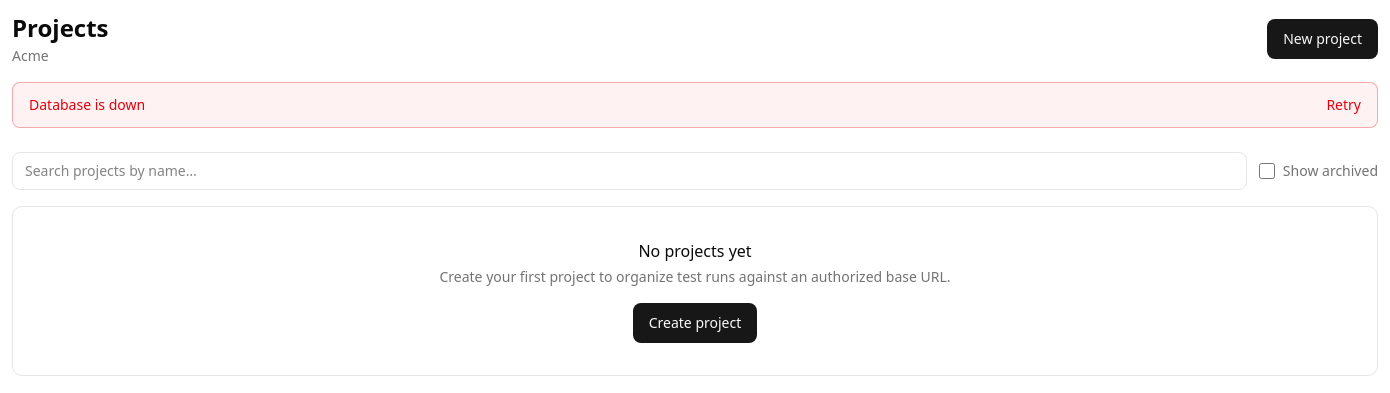
Test: ProjectsManager › shows an error with retry when loading fails
Expected: the message reads "Database is down", [29,95,145,114]
Click the button "Retry". click: (1344, 105)
box: [1326,95,1361,115]
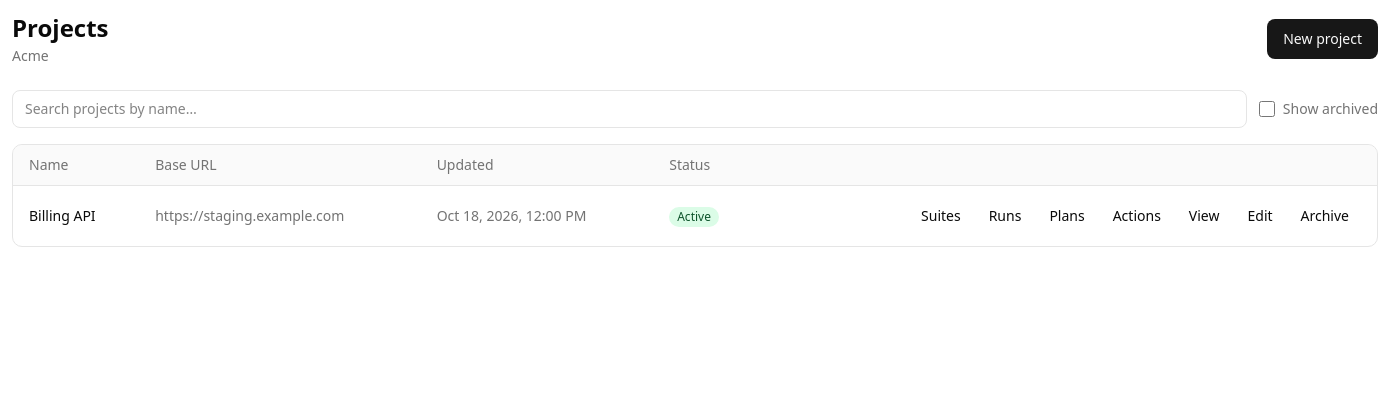
Expected: the text "Billing API" is shown, [13,186,139,246]
